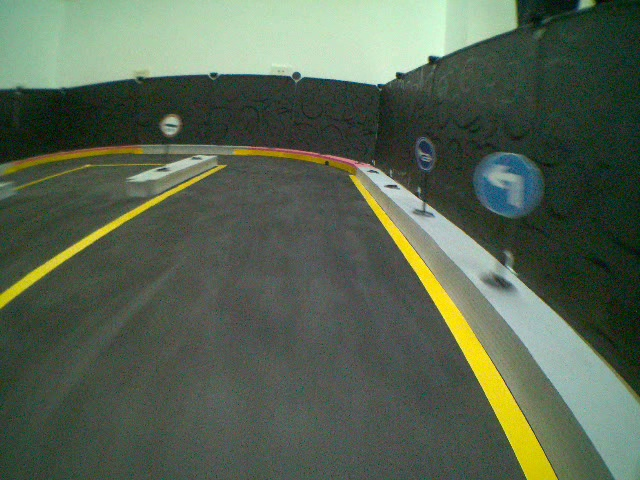Check: (155, 112, 185, 141)
horn: (415, 137, 439, 173)
turn: (479, 153, 547, 221)
